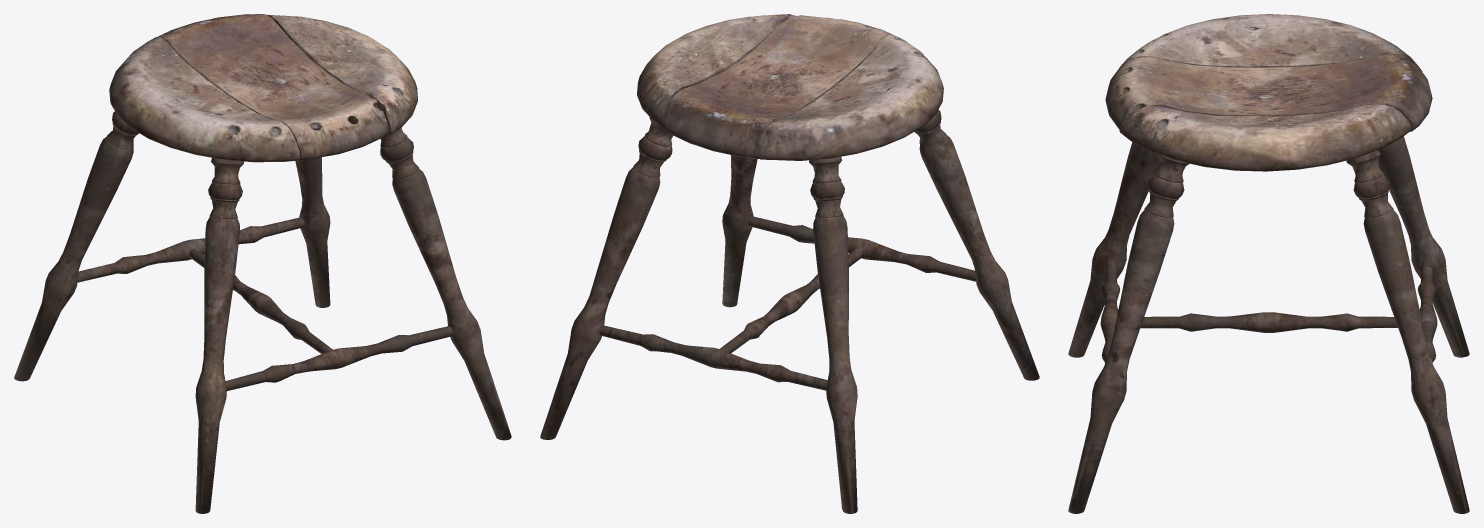
The model's file is wooden_stool_01.glb.
The picture shows the model from 3 angles, left to right: view 1: azimuth 30°, elevation 25°; view 2: azimuth 150°, elevation 25°; view 3: azimuth 270°, elevation 25°; orthographic projection. The views are drawn at different scales.
Visible parts, largest first — view 1: wooden_stool_01; view 2: wooden_stool_01; view 3: wooden_stool_01.
Part boxes in pixels (left/top/right/bottom): wooden_stool_01: left=14, top=14, right=511, bottom=513; wooden_stool_01: left=540, top=14, right=1039, bottom=513; wooden_stool_01: left=1068, top=14, right=1469, bottom=513.
Size of the model in its own units: 0.4246 by 0.4365 by 0.4417.
Materials: 1 (1 with a texture image).
